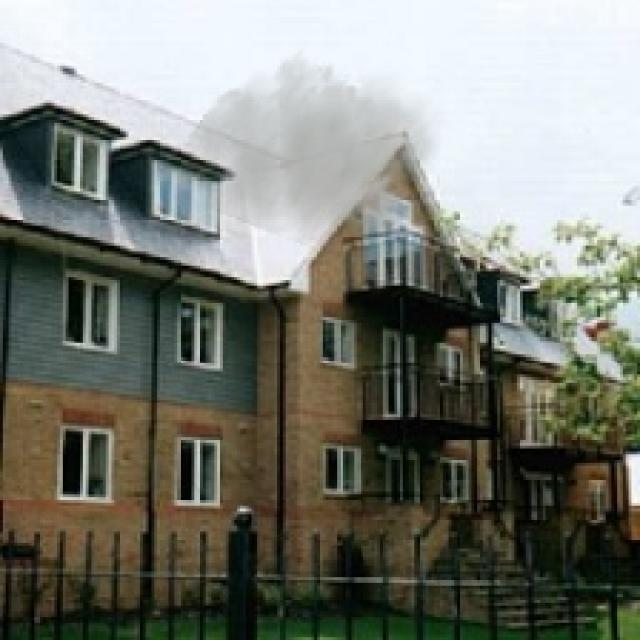Smoke: (177, 48, 449, 268)
